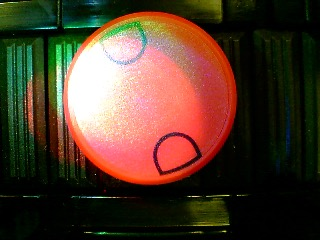MIPO2: (62, 10, 237, 186)
